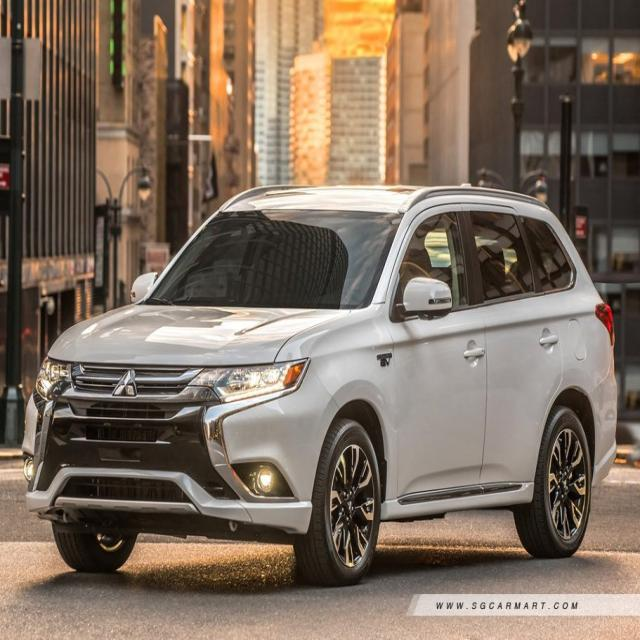light_vehicle: (22, 183, 619, 586)
